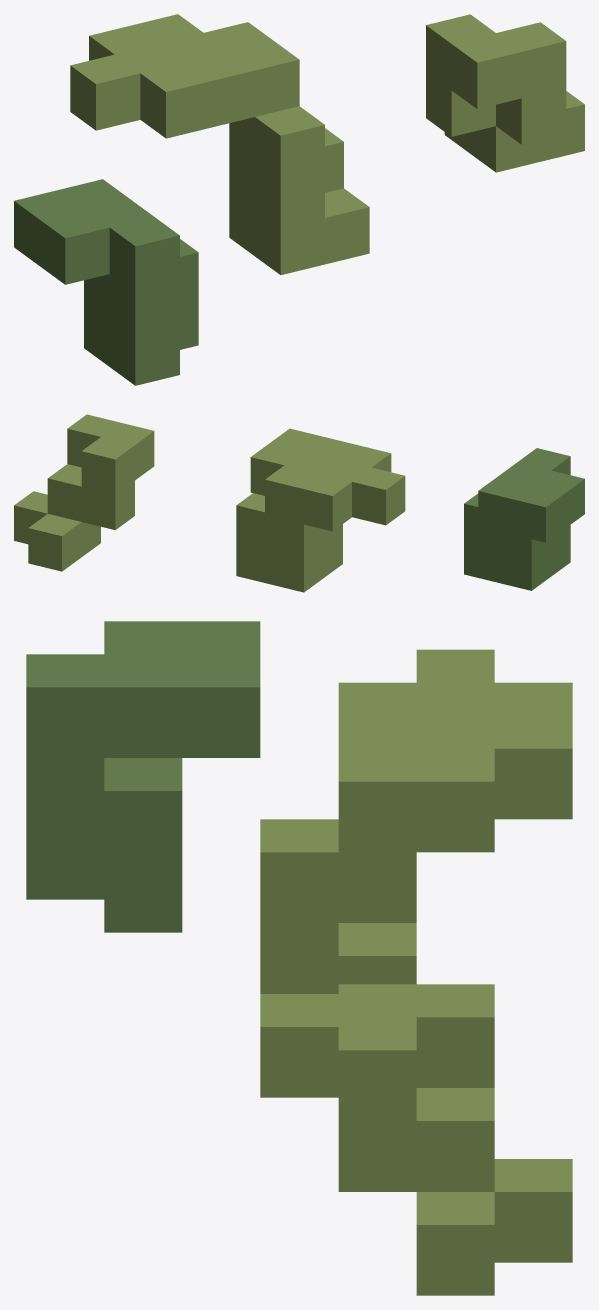
Rendered from grass_tuft_v2_species2_far.glb.
3 renders of one model, top to bottom at view 1: azimuth 30°, elevation 25°; view 2: azimuth 150°, elevation 25°; view 3: azimuth 270°, elevation 25°, orthographic. The views are drawn at different scales.
Parts seen in each view (by area): view 1: grass_tuft_v2_species2_far; view 2: grass_tuft_v2_species2_far; view 3: grass_tuft_v2_species2_far.
Boxes of the visible parts, box(x1,y1,x2,y2) form: grass_tuft_v2_species2_far: box(14, 14, 584, 385); grass_tuft_v2_species2_far: box(14, 414, 584, 592); grass_tuft_v2_species2_far: box(26, 621, 572, 1295).
Size of the model in its own units: 1.75 by 0.5 by 0.875.
1 material, 1 textured.
